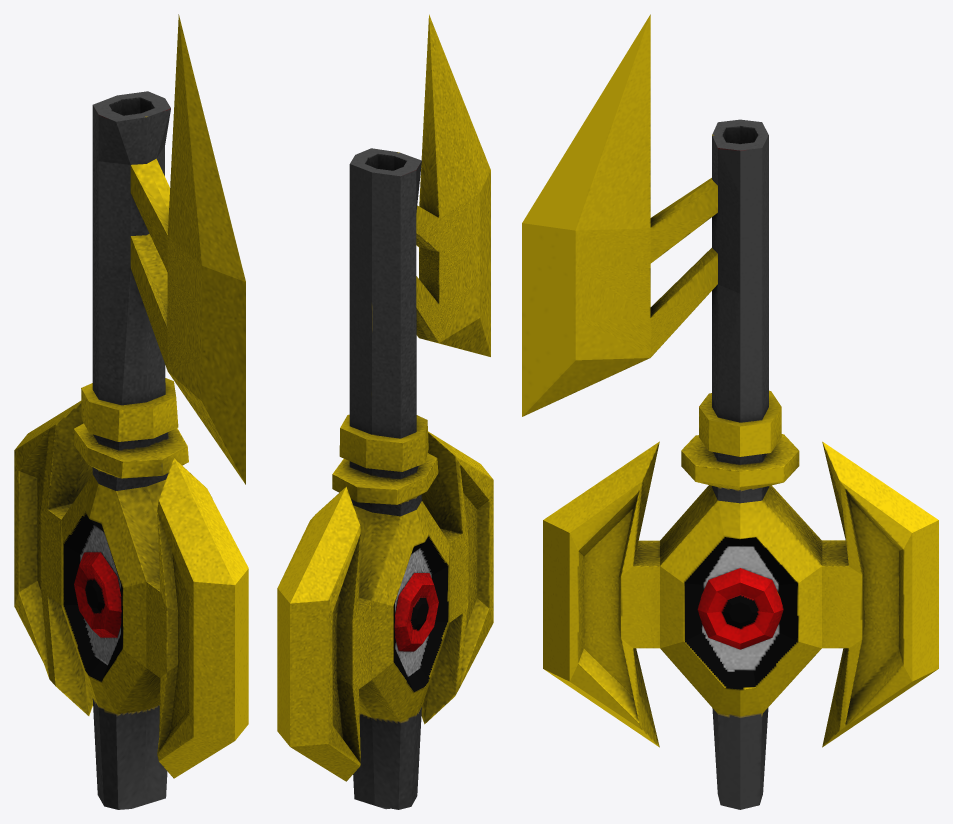
File: key_1.fbx
3 renders of one model, left to right at view 1: azimuth 30°, elevation 25°; view 2: azimuth 150°, elevation 25°; view 3: azimuth 270°, elevation 25°, orthographic. The views are drawn at different scales.
Parts seen in each view (by area): view 1: Cube_003; view 2: Cube_003; view 3: Cube_003.
Part boxes in pixels (<box>): Cube_003: <box>14,14,248,809</box>; Cube_003: <box>277,14,493,809</box>; Cube_003: <box>522,14,938,809</box>.
Size of the model in its own units: 0.1333 by 1.19 by 0.5654.
